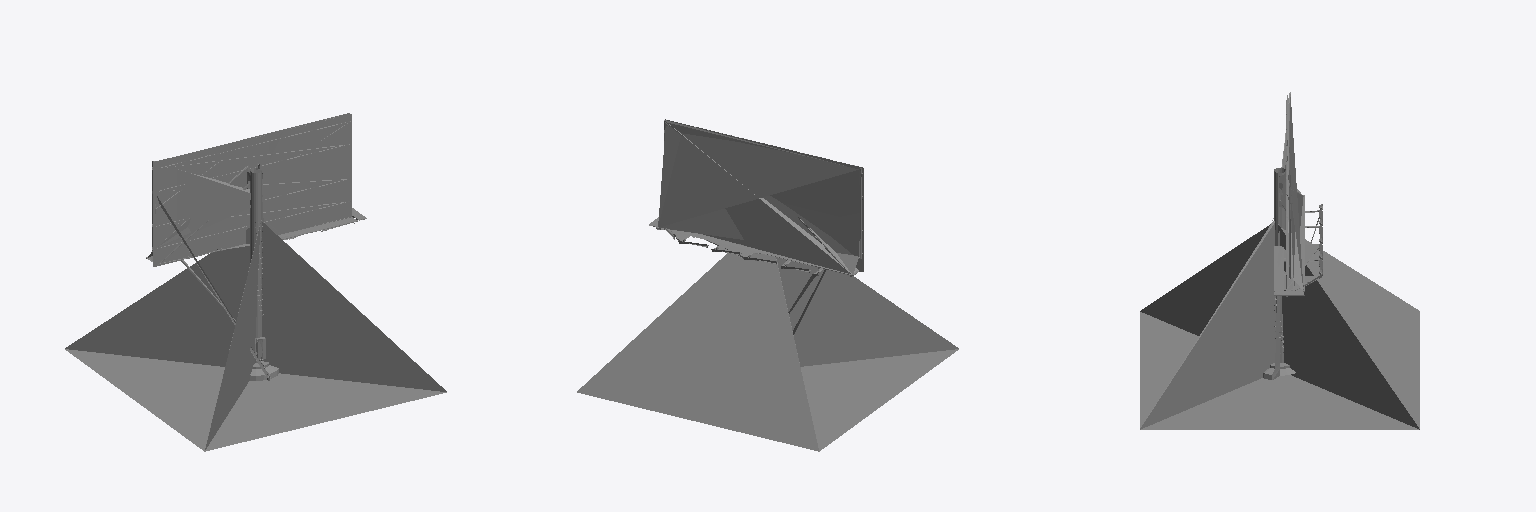
File: billboard_a_maya.obj
3 renders of one model, left to right at view 1: azimuth 30°, elevation 25°; view 2: azimuth 150°, elevation 25°; view 3: azimuth 270°, elevation 25°, orthographic.
Visible parts, largest first — view 1: Billboard_A, ground_A; view 2: Billboard_A, ground_A; view 3: Billboard_A, ground_A.
Part boxes in pixels (x1,y1,x2,y2): Billboard_A: (65,113,446,449); ground_A: (65,349,446,451); Billboard_A: (577,119,958,451); ground_A: (801,349,958,451); Billboard_A: (1140,92,1419,429); ground_A: (1140,312,1418,429).
Bounding box in the file's own units: 10.21 × 9.26 × 10.21.